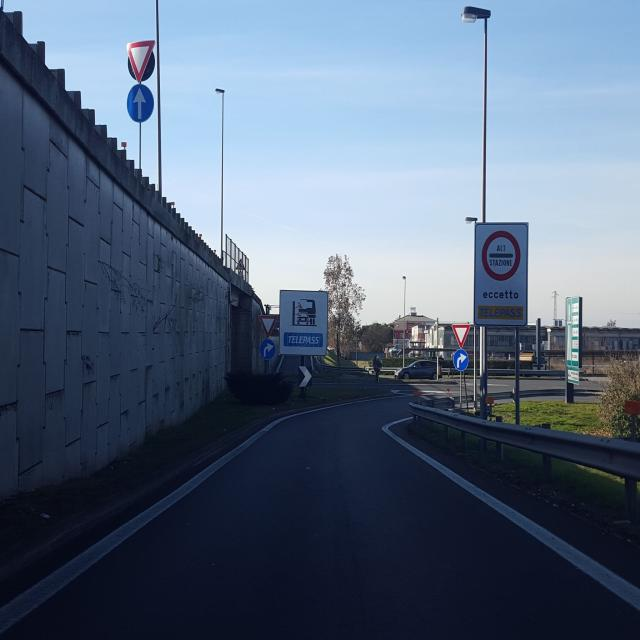car: (394, 359, 446, 381)
